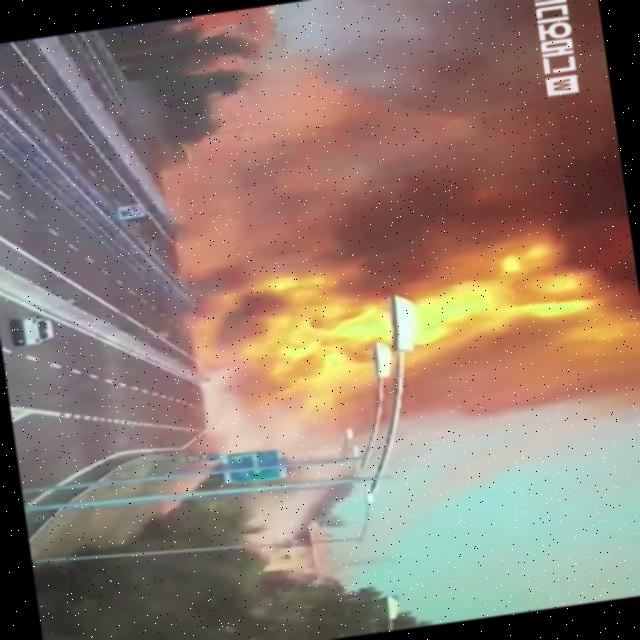explosion: (52, 0, 640, 511)
